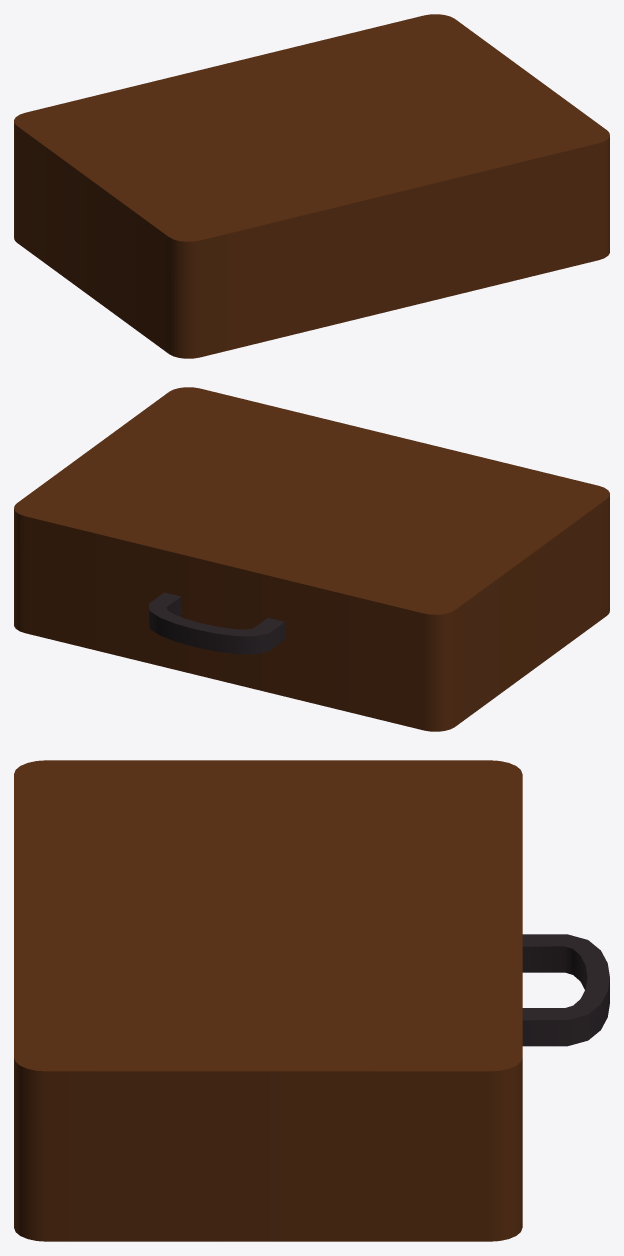
File: SuitCase.fbx
3 views of the same model, one above another, from view 1: azimuth 30°, elevation 25°; view 2: azimuth 150°, elevation 25°; view 3: azimuth 270°, elevation 25° (orthographic). The views are drawn at different scales.
Visible parts, largest first — view 1: Cube.001, Cube; view 2: Cube.001, Cube; view 3: Cube.001, Cube.
Boxes of the visible parts, x1,y1,x2,y2 form: Cube.001: (14, 14, 609, 276); Cube: (14, 156, 609, 358); Cube.001: (14, 387, 609, 649); Cube: (14, 529, 609, 731); Cube.001: (14, 760, 522, 1122); Cube: (14, 934, 609, 1241).
Size of the model in its own units: 425 by 108 by 344.
